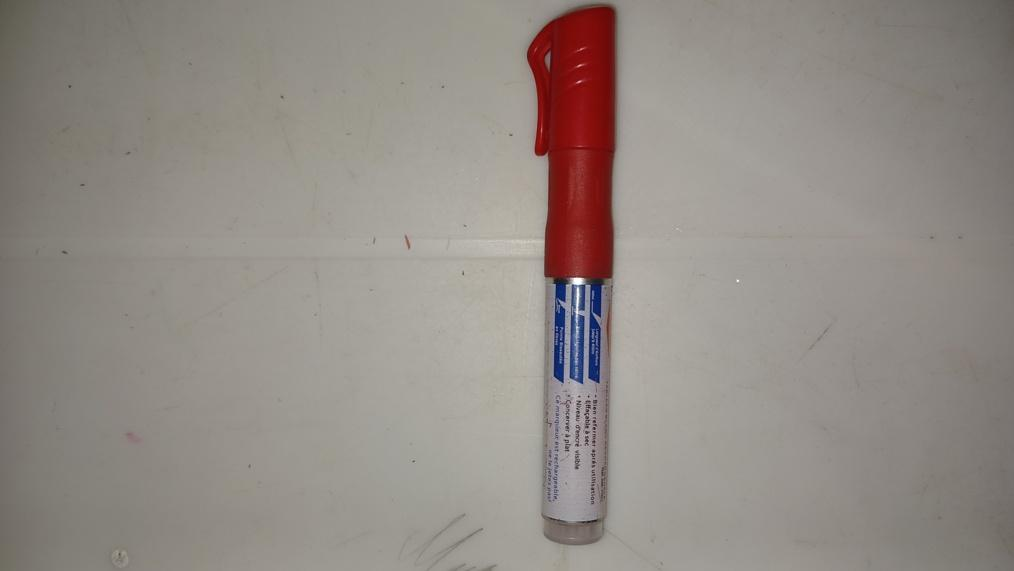Whiteboard marker: (529, 6, 620, 544)
